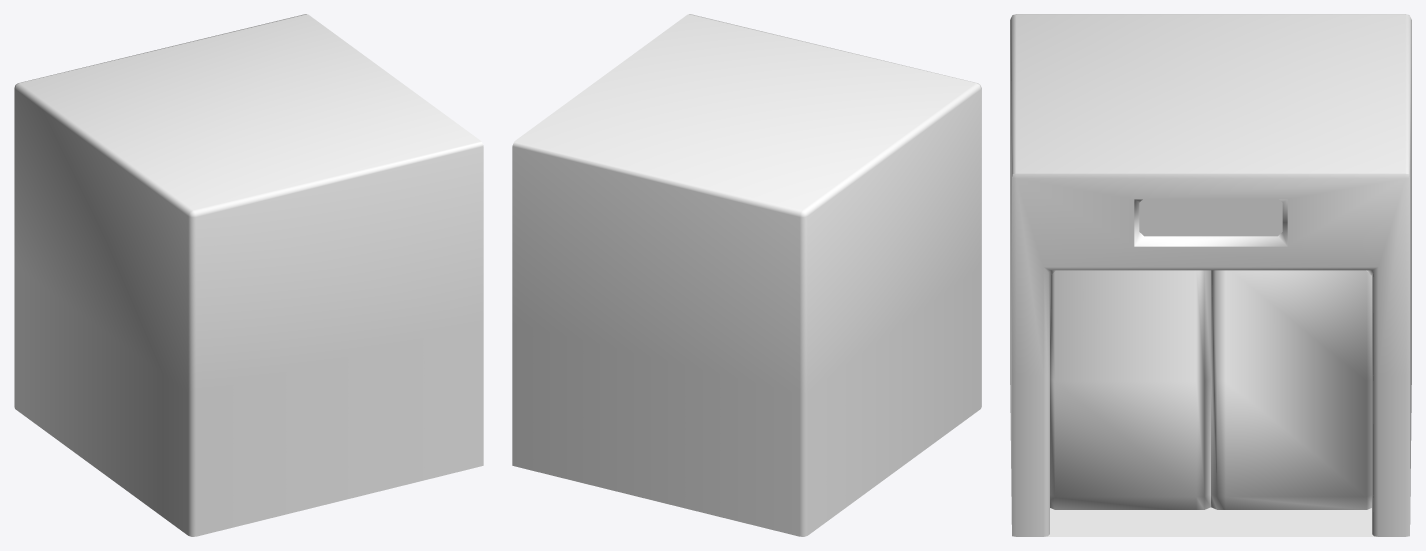
The model's file is Elevator.fbx.
The picture shows the model from 3 angles, left to right: view 1: azimuth 30°, elevation 25°; view 2: azimuth 150°, elevation 25°; view 3: azimuth 270°, elevation 25°; orthographic projection. The views are drawn at different scales.
Visible parts, largest first — view 1: Elevator; view 2: Elevator; view 3: Elevator, ElevatorDoor_R, ElevatorDoor_L.
Boxes of the visible parts, left/top/right/bottom form: Elevator: left=14, top=14, right=483, bottom=536; Elevator: left=512, top=14, right=981, bottom=536; Elevator: left=1010, top=14, right=1411, bottom=536; ElevatorDoor_R: left=1050, top=270, right=1210, bottom=509; ElevatorDoor_L: left=1211, top=270, right=1371, bottom=509.
Bounding box in the file's own units: 4 × 3.8 × 4.
